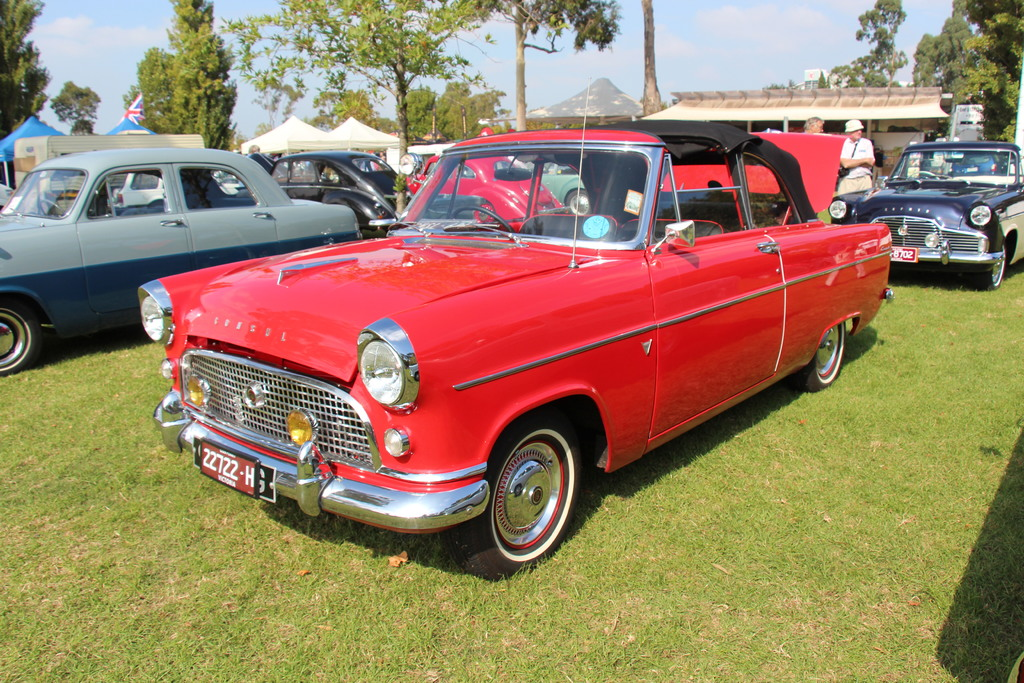Car: (128, 137, 913, 563), (0, 141, 362, 375), (828, 132, 1023, 292), (397, 141, 565, 241), (226, 152, 414, 240), (533, 164, 592, 213)
